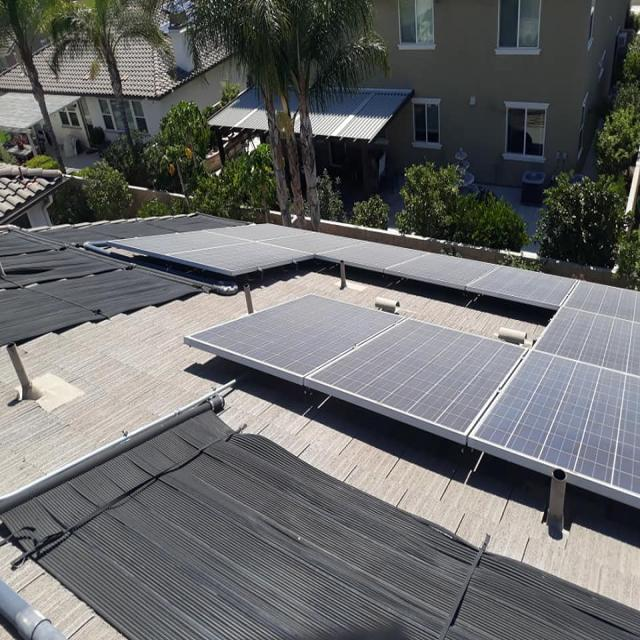dust-solar-panel: (108, 221, 640, 499)
